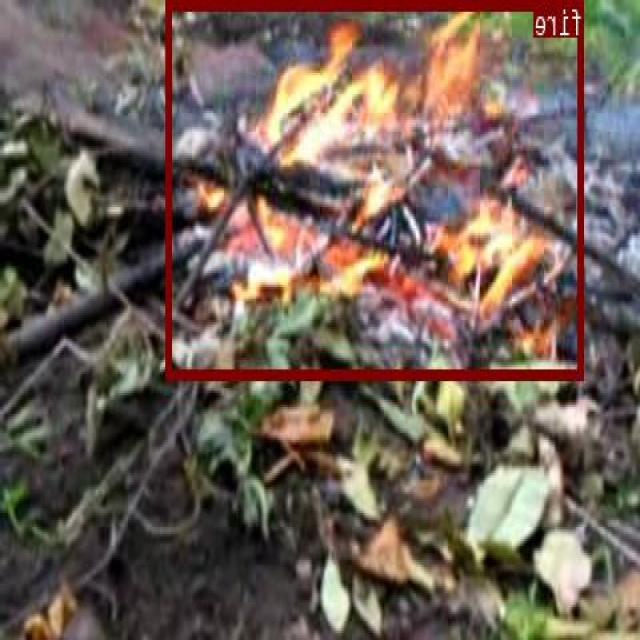fire: (167, 0, 585, 379)
